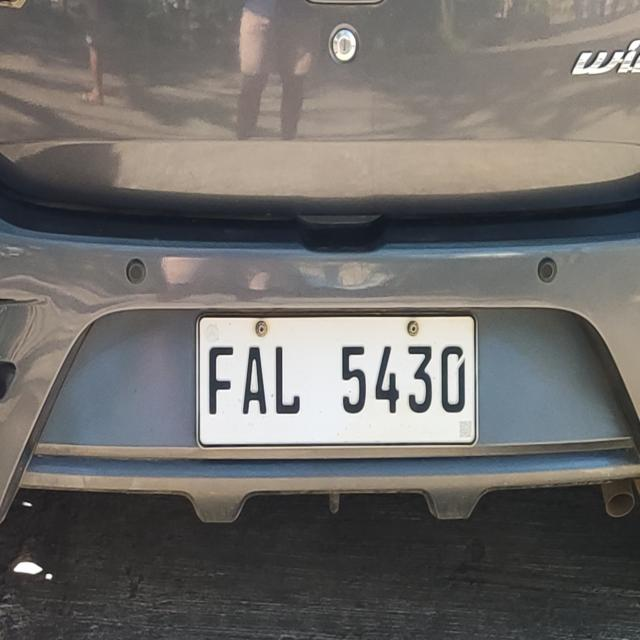plate: (191, 307, 483, 458)
